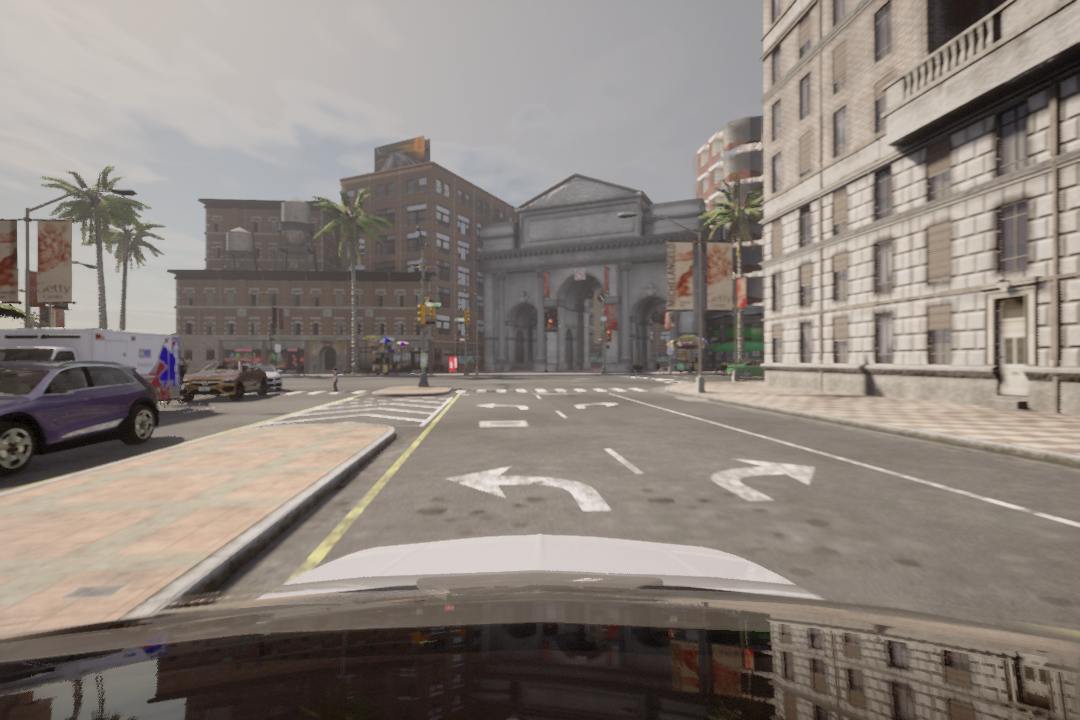RoadSign_left: (438, 461, 613, 519), (475, 401, 533, 414)
RoadSign_right: (699, 451, 823, 507), (570, 400, 621, 413)
